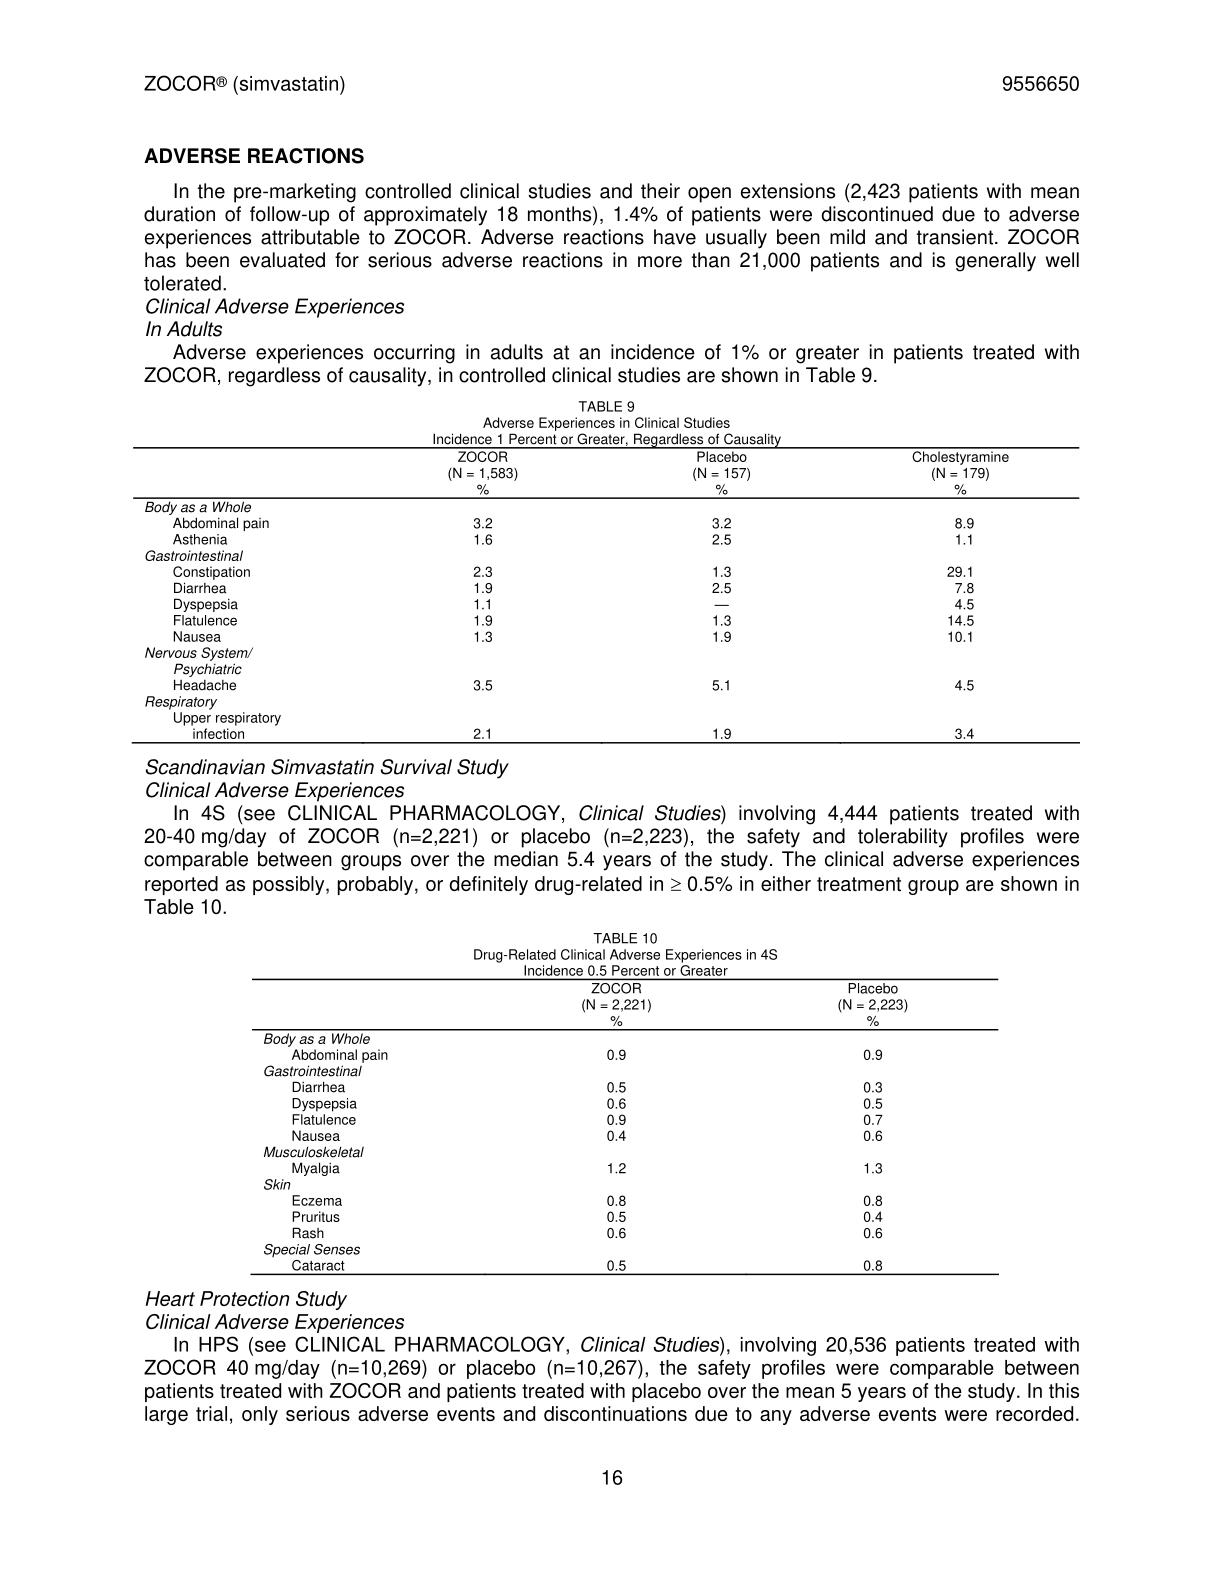partial_lined: (132, 445, 1083, 746), (249, 976, 1002, 1278)
